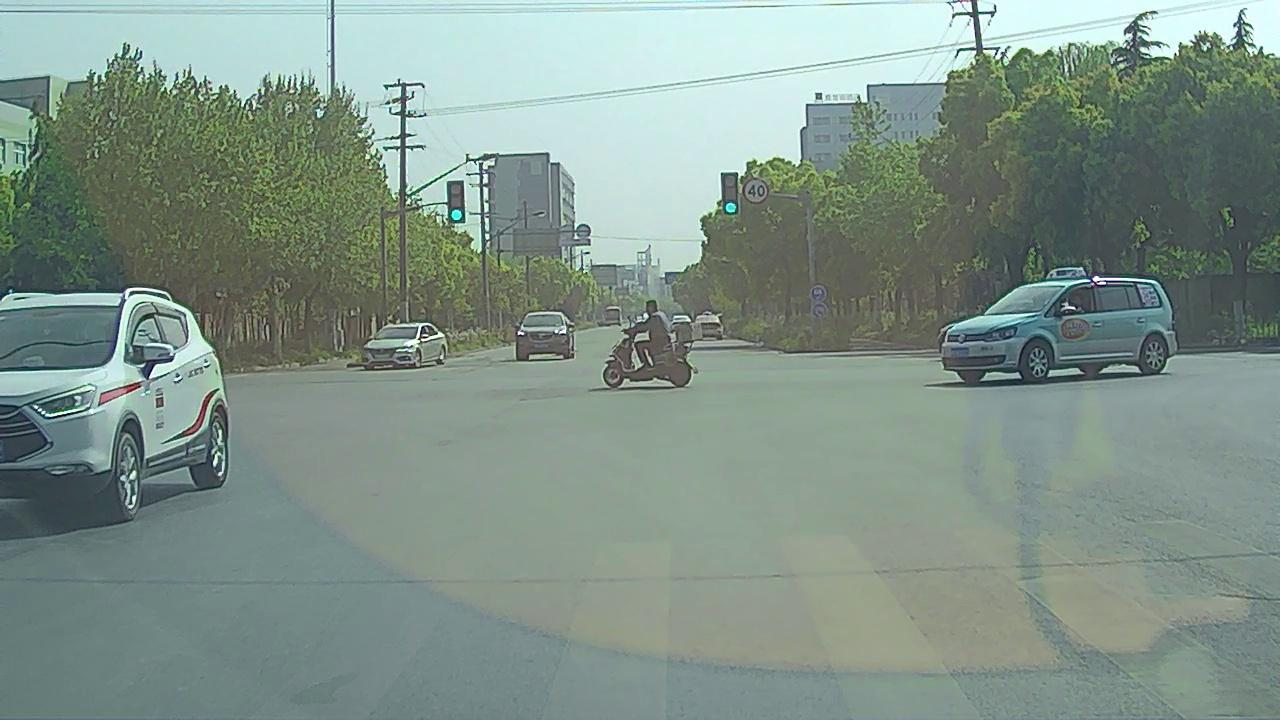traffic_light: (723, 173, 739, 215), (449, 182, 465, 222)
